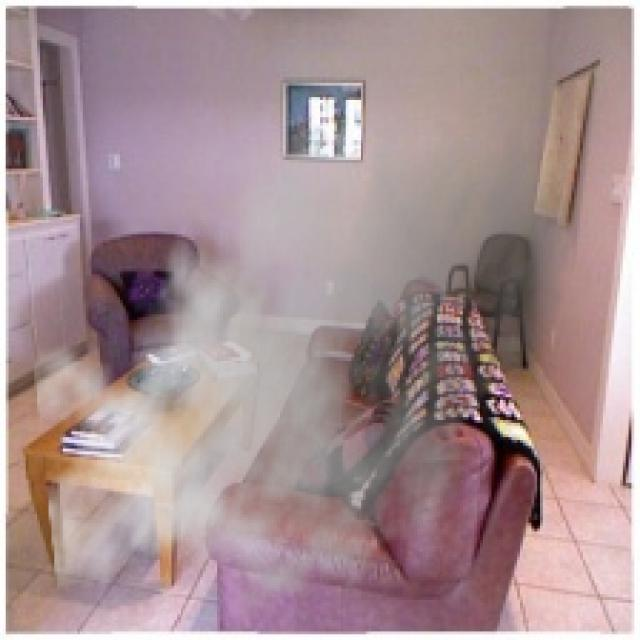smoke: (31, 74, 580, 629)
